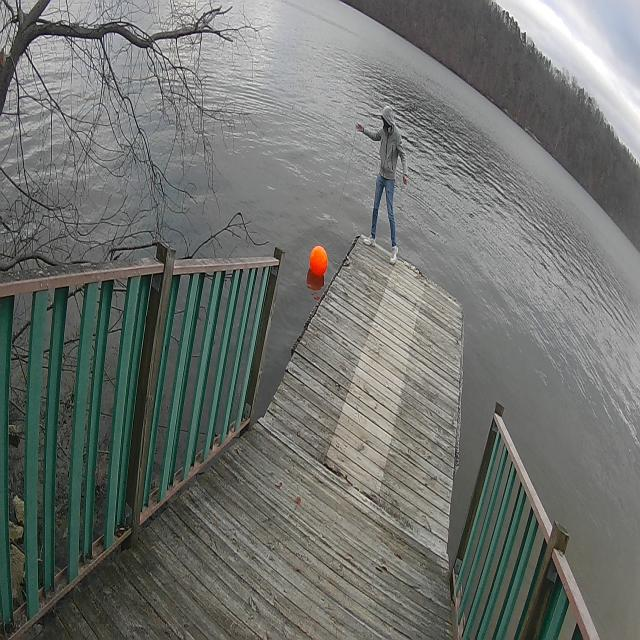Buoy: (302, 232, 332, 284)
